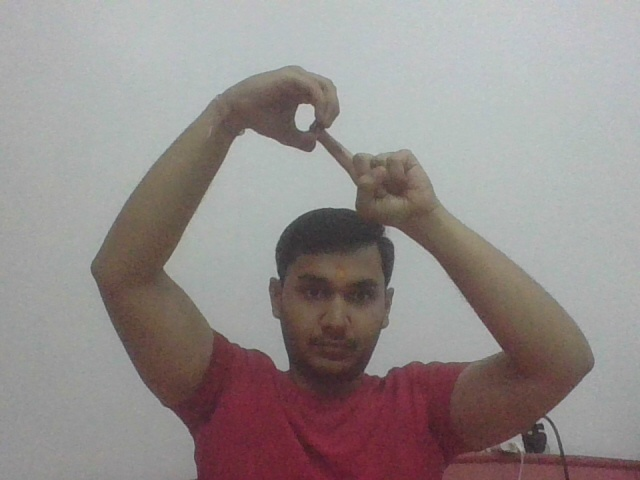Q: (255, 63, 400, 210)
